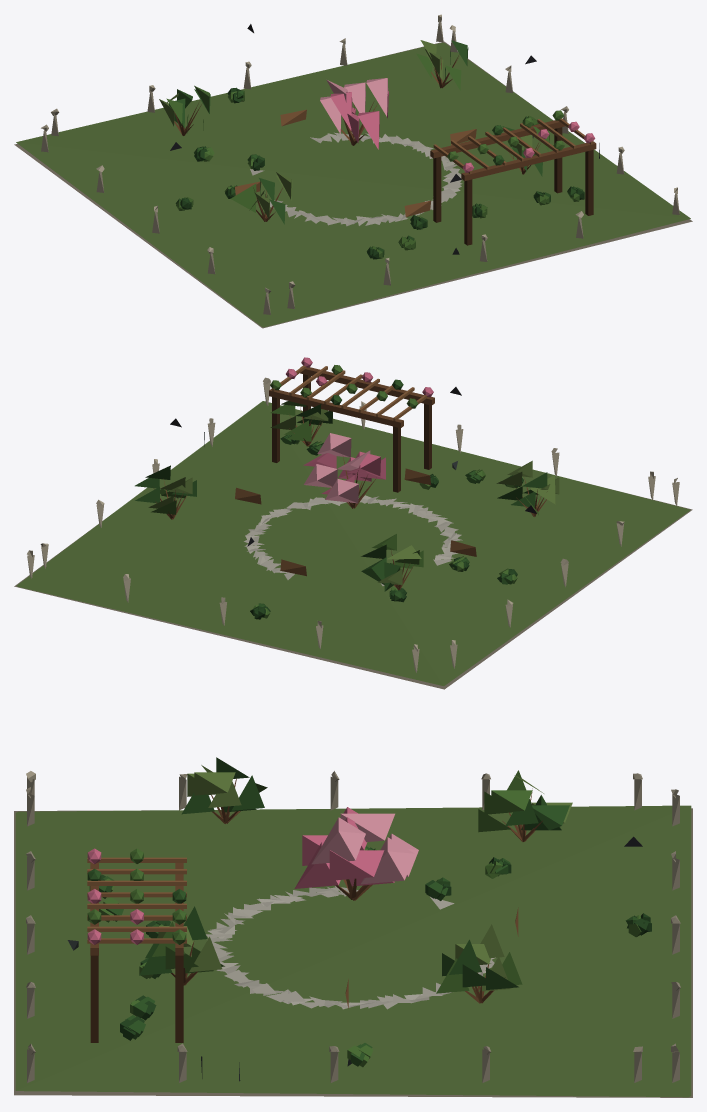
Rendered from deco_park.glb.
3 renders of one model, top to bottom at view 1: azimuth 30°, elevation 25°; view 2: azimuth 150°, elevation 25°; view 3: azimuth 270°, elevation 25°, orthographic. The views are drawn at different scales.
Size of the model in its own units: 5.52 by 1.28 by 5.52.
